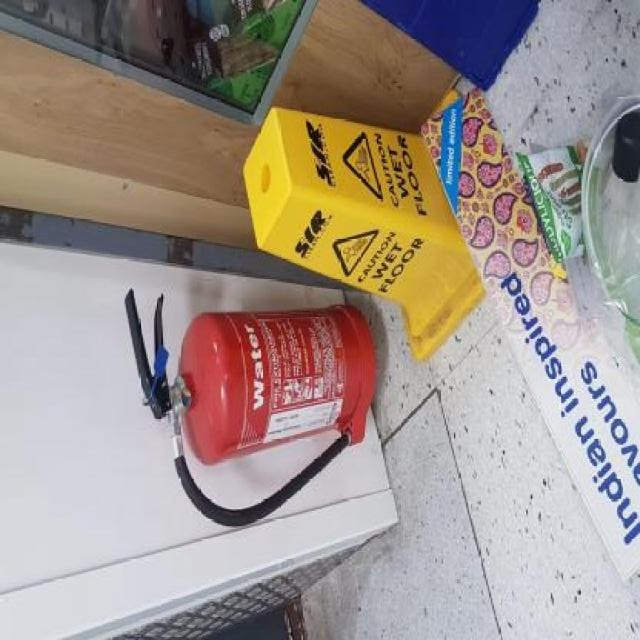fire extinguisher: (123, 286, 374, 526)
